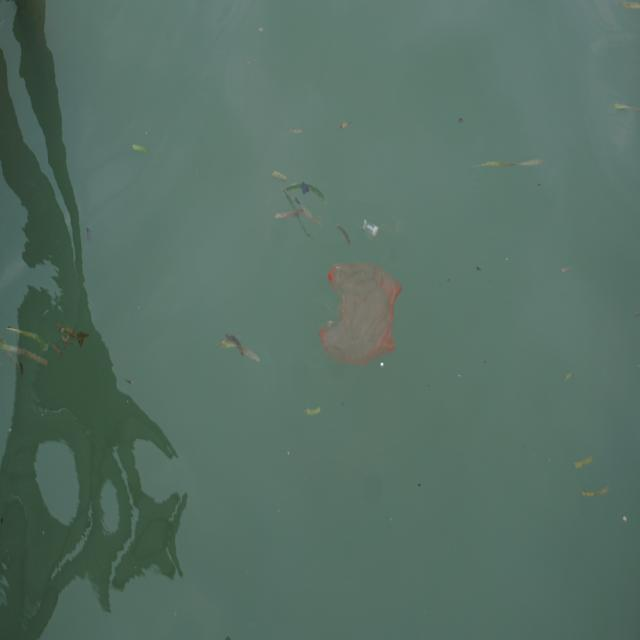Bungkus Makanan: (319, 258, 402, 365)
